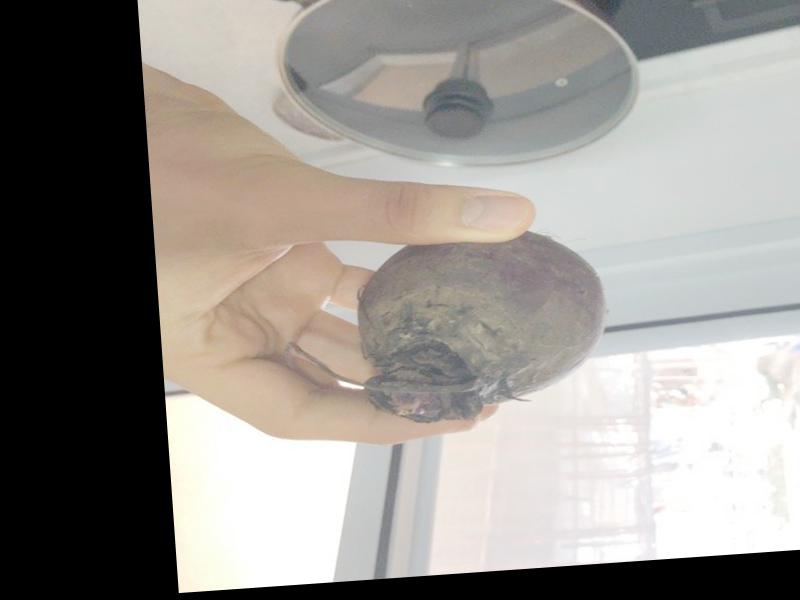Beet: (280, 223, 613, 433)
